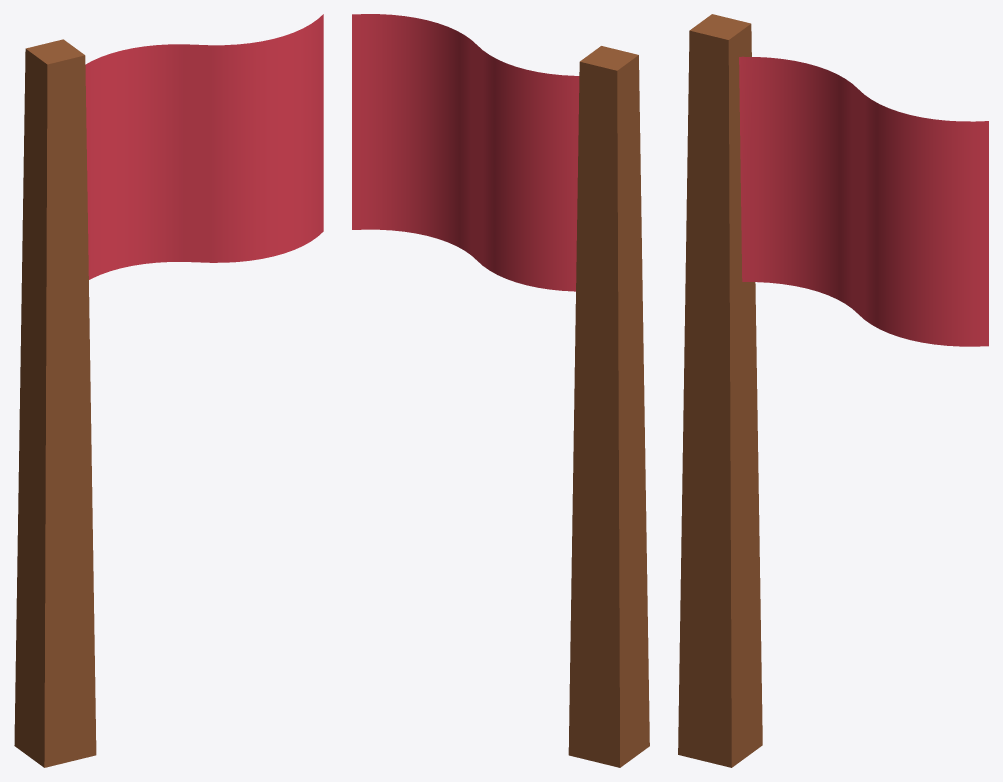
Rendered from flag.obj.
The picture shows the model from 3 angles, left to right: view 1: azimuth 30°, elevation 25°; view 2: azimuth 150°, elevation 25°; view 3: azimuth 330°, elevation 25°; orthographic projection. The views are drawn at different scales.
Visible parts, largest first — view 1: flag; view 2: flag; view 3: flag.
Part boxes in pixels (x1=…): flag: x1=14, y1=14, x2=323, y2=767; flag: x1=352, y1=14, x2=649, y2=767; flag: x1=678, y1=14, x2=988, y2=767.
Bounding box in the file's own units: 0.3906 × 0.9 × 0.0754.
